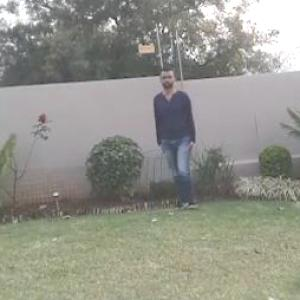follow: (155, 66, 204, 220)
